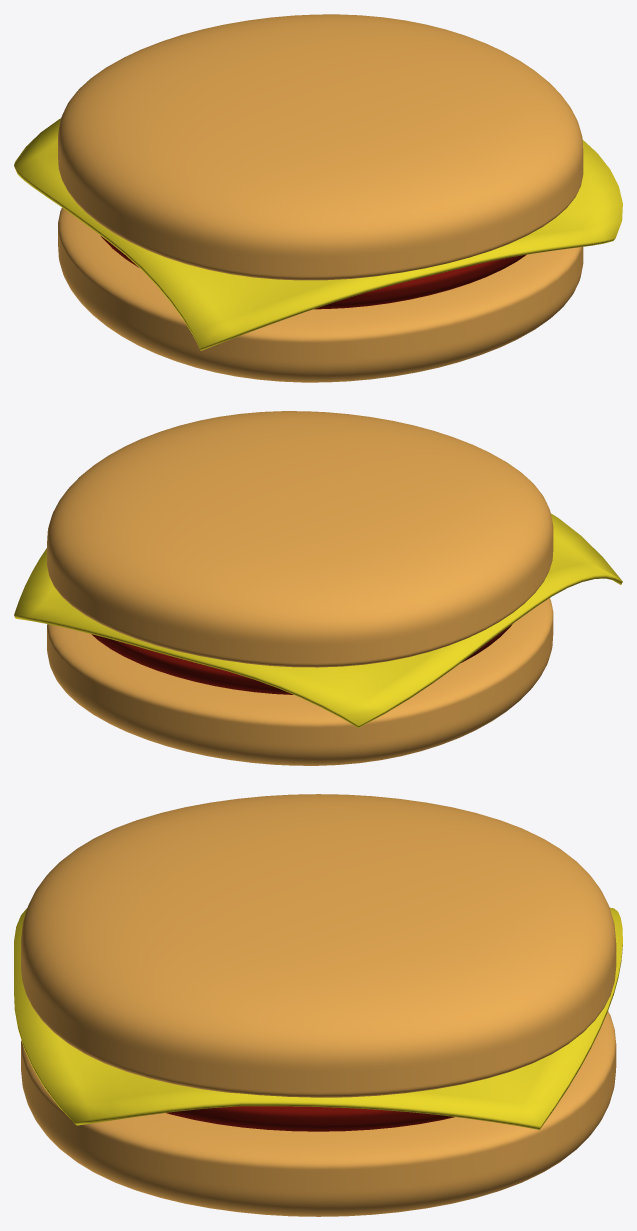
Rendered from hamburger.glb.
3 renders of one model, top to bottom at view 1: azimuth 30°, elevation 25°; view 2: azimuth 150°, elevation 25°; view 3: azimuth 270°, elevation 25°, orthographic. The views are drawn at different scales.
Visible parts, largest first — view 1: Cube.002, Cube, Plane, Cube.001; view 2: Cube.002, Cube, Plane, Cube.001; view 3: Cube.002, Cube, Plane, Cube.001.
Part boxes in pixels (<box>): Cube.002: <box>58,14,583,280</box>; Cube: <box>58,208,583,382</box>; Plane: <box>14,118,622,350</box>; Cube.001: <box>101,236,526,309</box>; Cube.002: <box>47,411,553,667</box>; Cube: <box>47,598,553,765</box>; Plane: <box>14,513,622,727</box>; Cube.001: <box>91,624,512,694</box>; Cube.002: <box>21,794,616,1097</box>; Cube: <box>21,1011,616,1216</box>; Plane: <box>14,907,622,1129</box>; Cube.001: <box>166,1106,454,1131</box>.
Bounding box in the file's own units: 9.38 × 4.24 × 9.38.
